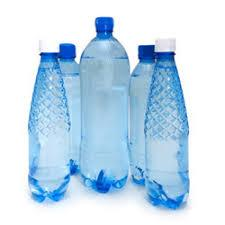Plastic bottle: (64, 11, 140, 203), (127, 29, 188, 216), (27, 37, 73, 206)
